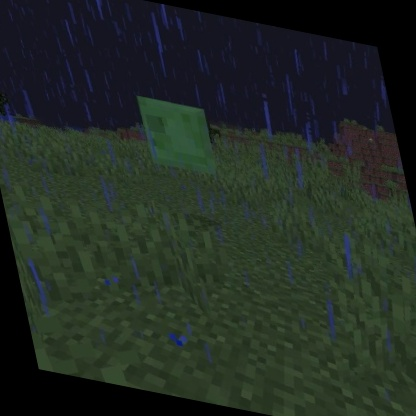slime: (133, 92, 224, 184)
